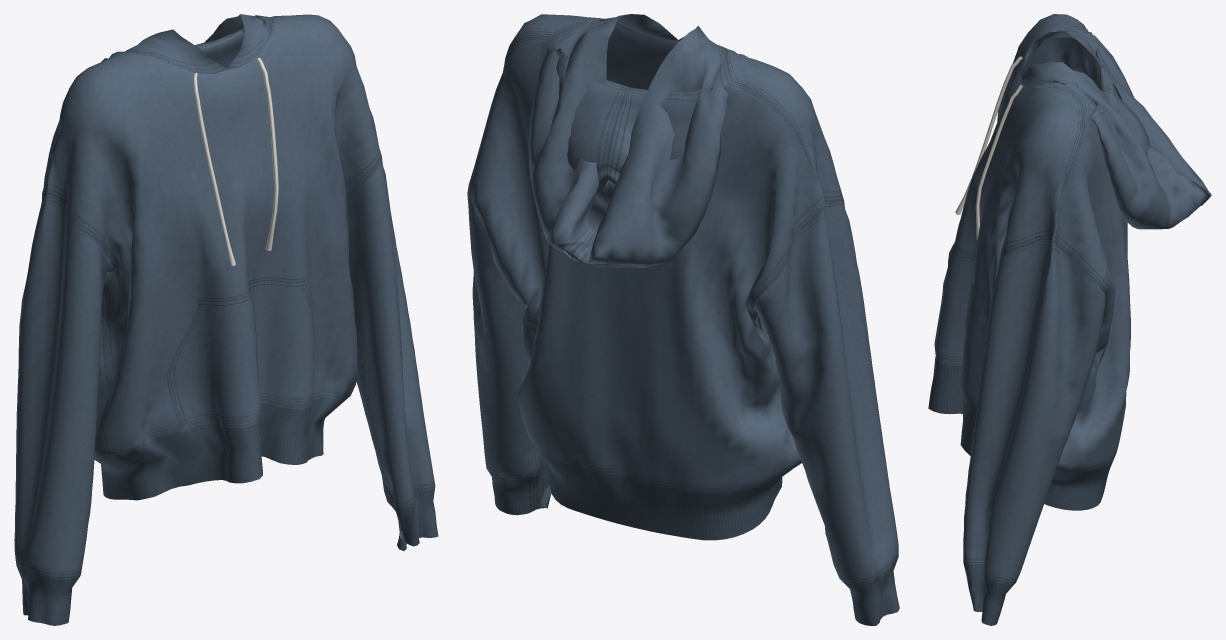
File: hoodie.obj
3 renders of one model, left to right at view 1: azimuth 30°, elevation 25°; view 2: azimuth 150°, elevation 25°; view 3: azimuth 270°, elevation 25°, orthographic. The views are drawn at different scales.
Visible parts, largest first — view 1: Body_Front, Sleeve_R, Sleeve_L, Pocket, Hem_Rib, Body_Back, Cuff_R, Hood_R, Hood_L, Cuff_L, Drawcord_L, Drawcord_R; view 2: Body_Back, Sleeve_R, Hood_R, Hood_L, Sleeve_L, Hem_Rib, Body_Front, Cuff_L, Cuff_R; view 3: Sleeve_L, Body_Front, Body_Back, Hood_L, Pocket, Hem_Rib, Hood_R, Cuff_L, Drawcord_L, Drawcord_R.
Boxes of the visible parts, x1,y1,x2,y2 form: Body_Front: [49, 14, 381, 459]; Sleeve_R: [14, 194, 120, 580]; Sleeve_L: [346, 156, 435, 509]; Pocket: [167, 277, 315, 428]; Hem_Rib: [94, 394, 349, 500]; Body_Back: [42, 27, 244, 459]; Cuff_R: [16, 565, 79, 625]; Hood_R: [109, 29, 226, 73]; Hood_L: [195, 14, 273, 68]; Cuff_L: [388, 488, 438, 550]; Drawcord_L: [256, 58, 278, 250]; Drawcord_R: [193, 73, 235, 266]; Body_Back: [468, 35, 825, 494]; Sleeve_R: [752, 200, 898, 585]; Hood_R: [572, 25, 732, 267]; Hood_L: [528, 14, 677, 265]; Sleeve_L: [467, 186, 547, 480]; Hem_Rib: [537, 449, 801, 540]; Body_Front: [506, 14, 843, 201]; Cuff_L: [487, 463, 551, 515]; Cuff_R: [843, 557, 899, 625]; Sleeve_L: [963, 239, 1105, 585]; Body_Front: [935, 14, 1083, 410]; Body_Back: [1051, 25, 1130, 473]; Hood_L: [1022, 62, 1211, 229]; Pocket: [934, 243, 985, 406]; Hem_Rib: [928, 358, 1116, 510]; Hood_R: [1022, 26, 1209, 192]; Cuff_L: [963, 564, 1013, 625]; Drawcord_L: [975, 84, 1022, 239]; Drawcord_R: [955, 56, 1022, 214].
Bounding box in the file's own units: 0.7074 × 0.9128 × 0.4703.
3 materials, 3 textured.
